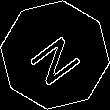N_NE: (23, 24, 87, 86)
